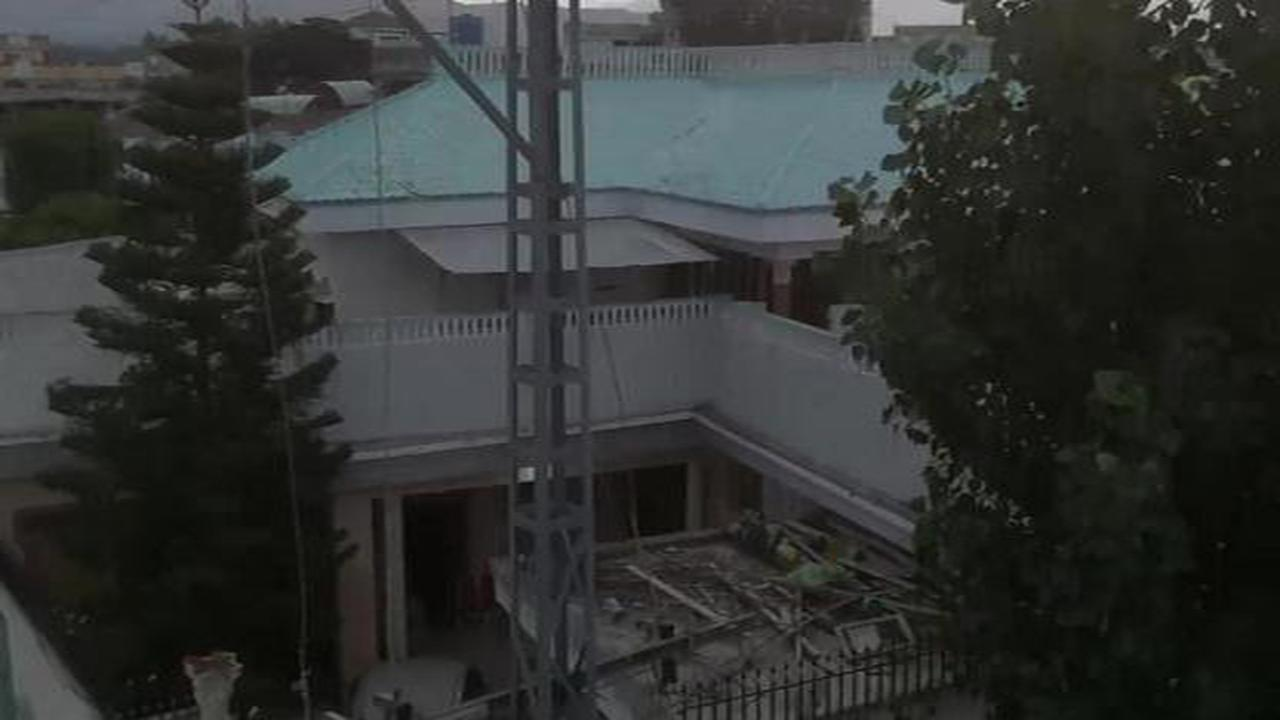insulator_disc: (541, 261, 551, 276)
